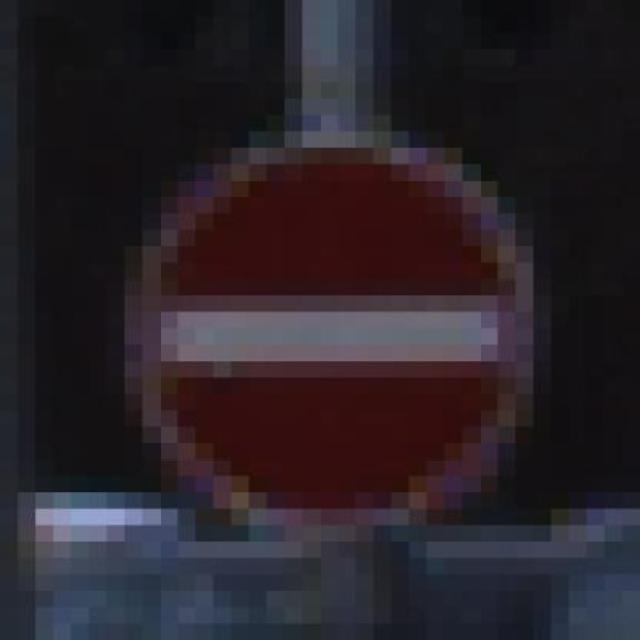No Entry: (86, 126, 549, 536)
